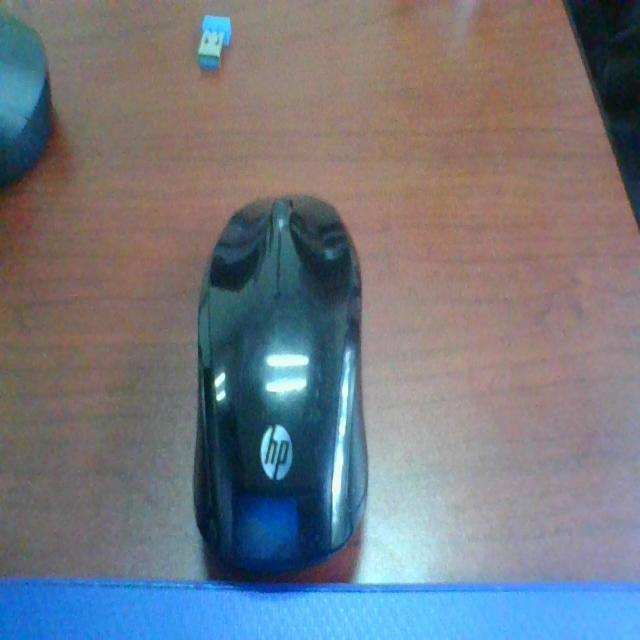mouse: (196, 184, 392, 560)
